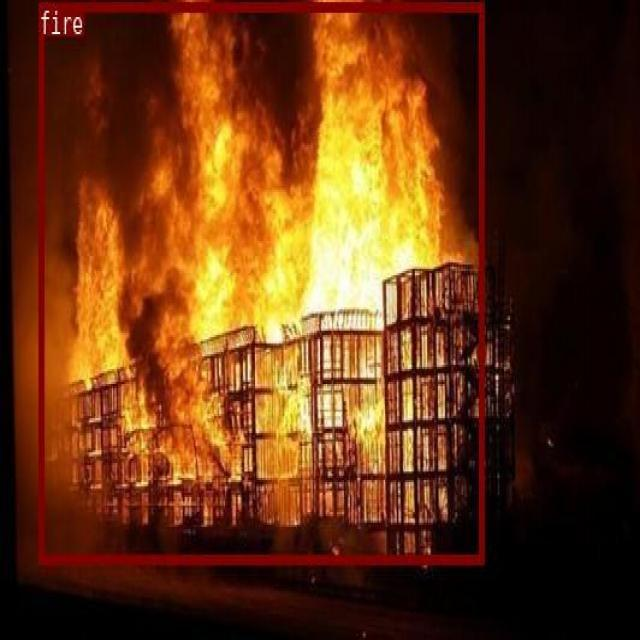fire: (39, 2, 483, 562)
